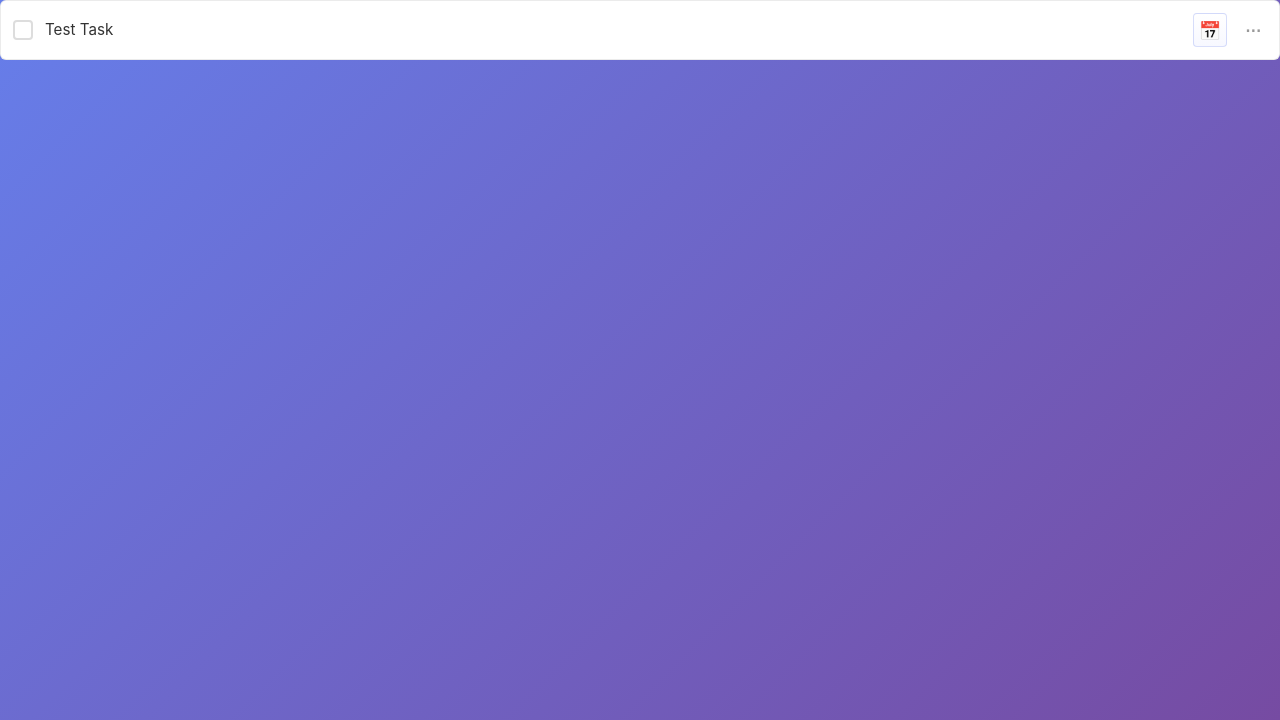
Test: Task Component › Dropdown Menu › closes menu when clicking outside
Click the button titled "More actions".
click(1253, 30)  # box [1239,16,1267,44]
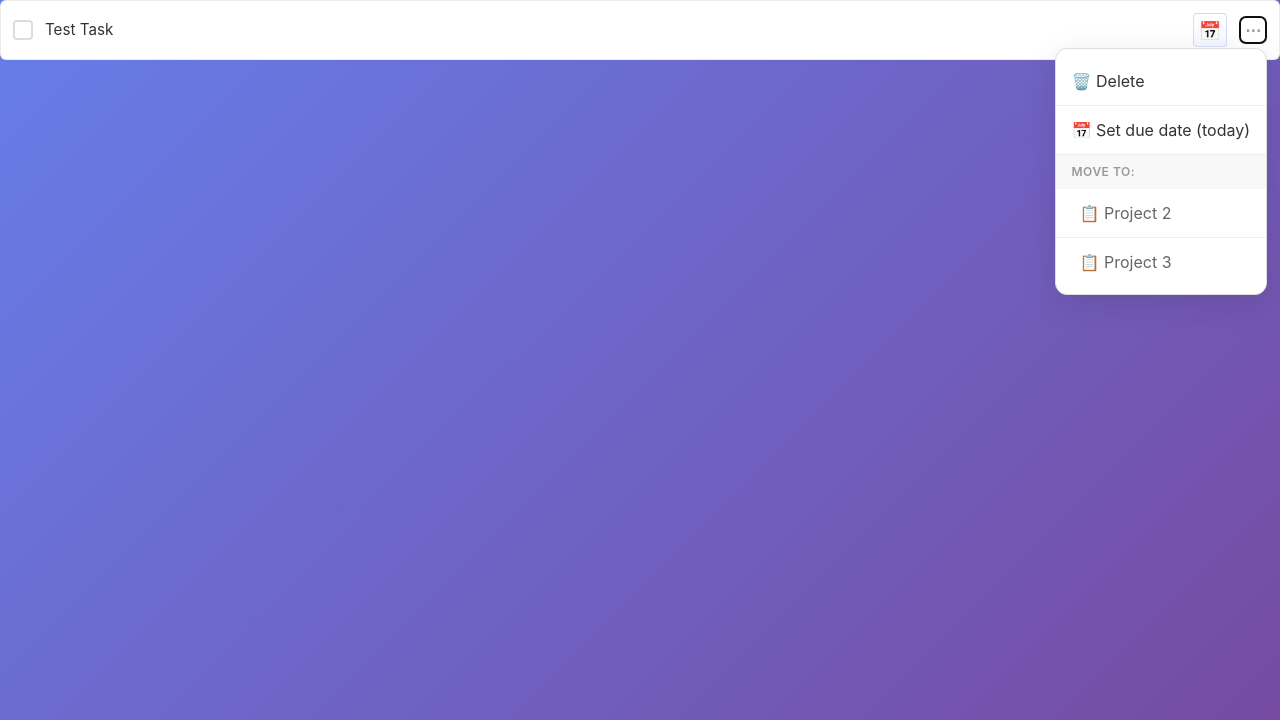
Now the button "🗑️ Delete" is shown, box [1056,57,1266,106]
Click outside
Click the element that starts with "Test Task".
click(640, 360)  # box [0,0,1279,719]
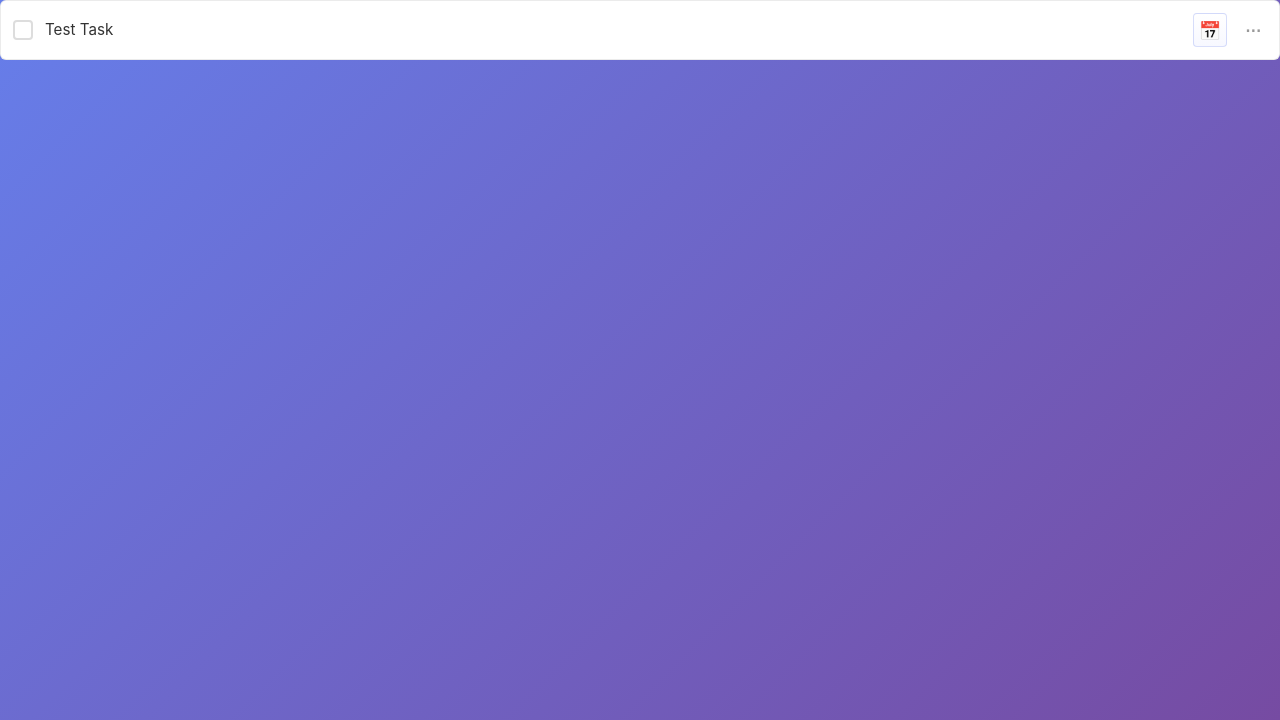
Now the button "🗑️ Delete" is gone
